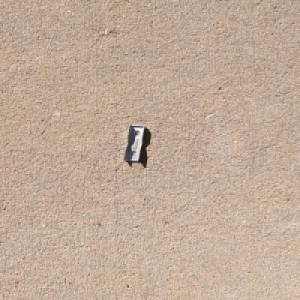ClampPart: (122, 124, 147, 161)
